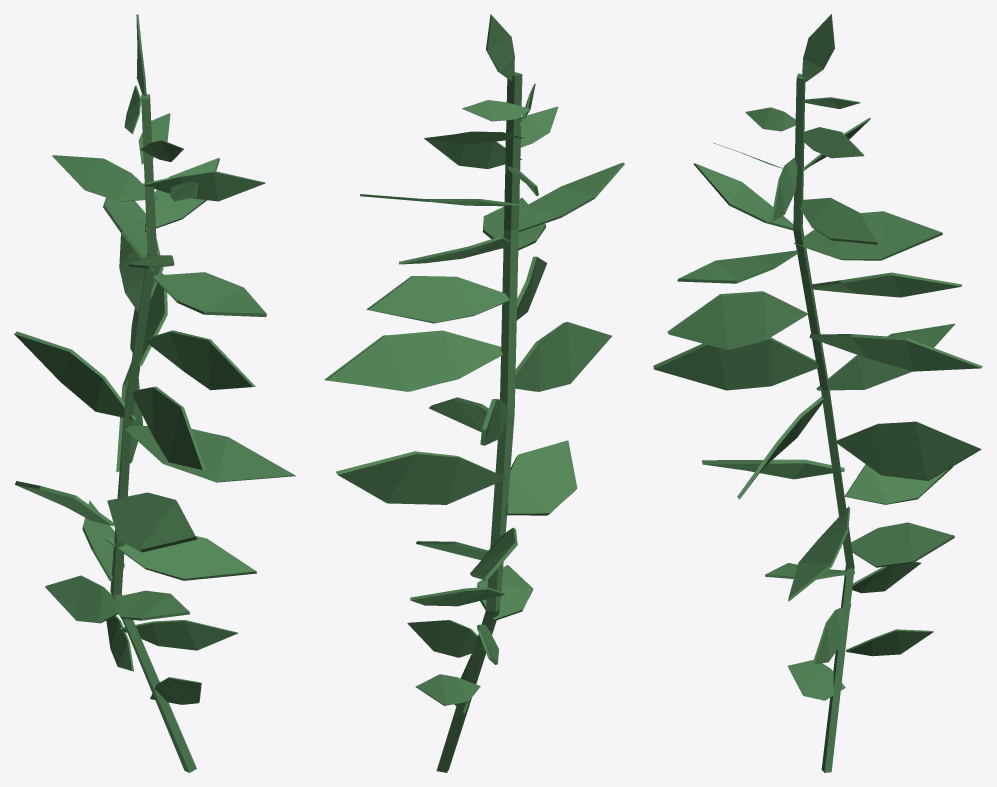
File: Seaweed_013.glb
3 renders of one model, left to right at view 1: azimuth 30°, elevation 25°; view 2: azimuth 150°, elevation 25°; view 3: azimuth 270°, elevation 25°, orthographic. The views are drawn at different scales.
Parts seen in each view (by area): view 1: Seaweed_013; view 2: Seaweed_013; view 3: Seaweed_013.
Boxes of the visible parts, left/top/right/bottom form: Seaweed_013: left=14, top=14, right=295, bottom=772; Seaweed_013: left=324, top=14, right=624, bottom=772; Seaweed_013: left=653, top=14, right=982, bottom=772.
Bounding box in the file's own units: 0.6964 × 2.9 × 1.18.
Materials: 1 (1 with a texture image).
